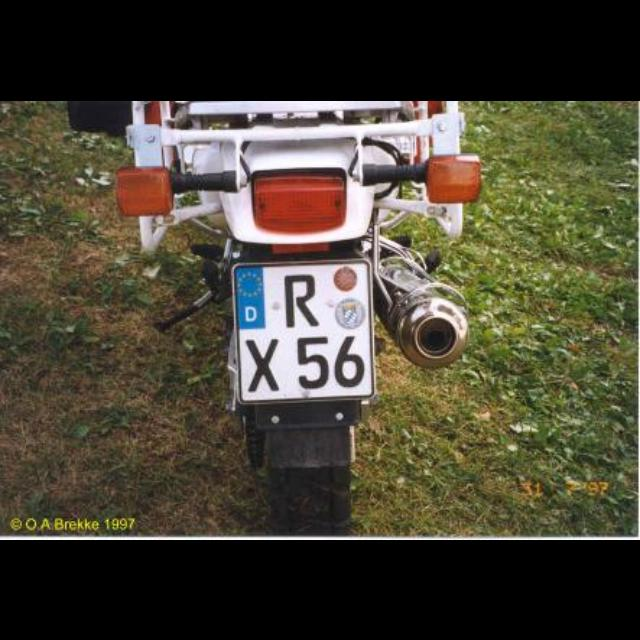d_license_plate: (231, 260, 371, 400)
